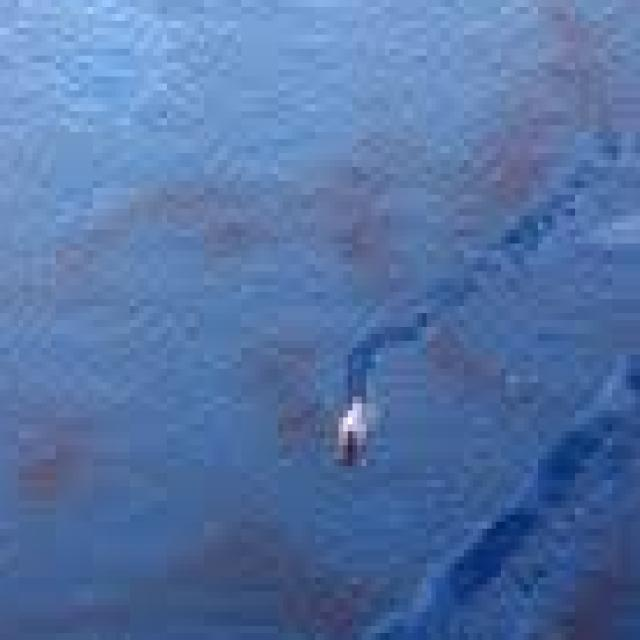-: (0, 0, 357, 640), (0, 0, 640, 299), (464, 271, 640, 640)
